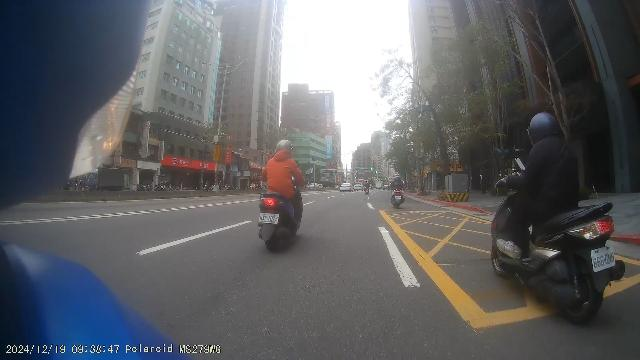plate: (592, 245, 616, 271), (258, 213, 279, 224)
